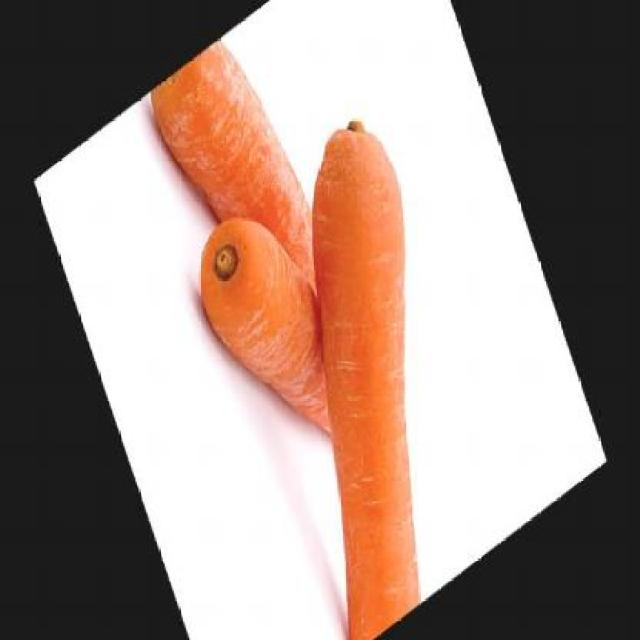carrot: (205, 100, 518, 638), (147, 17, 336, 358), (186, 182, 354, 487)
